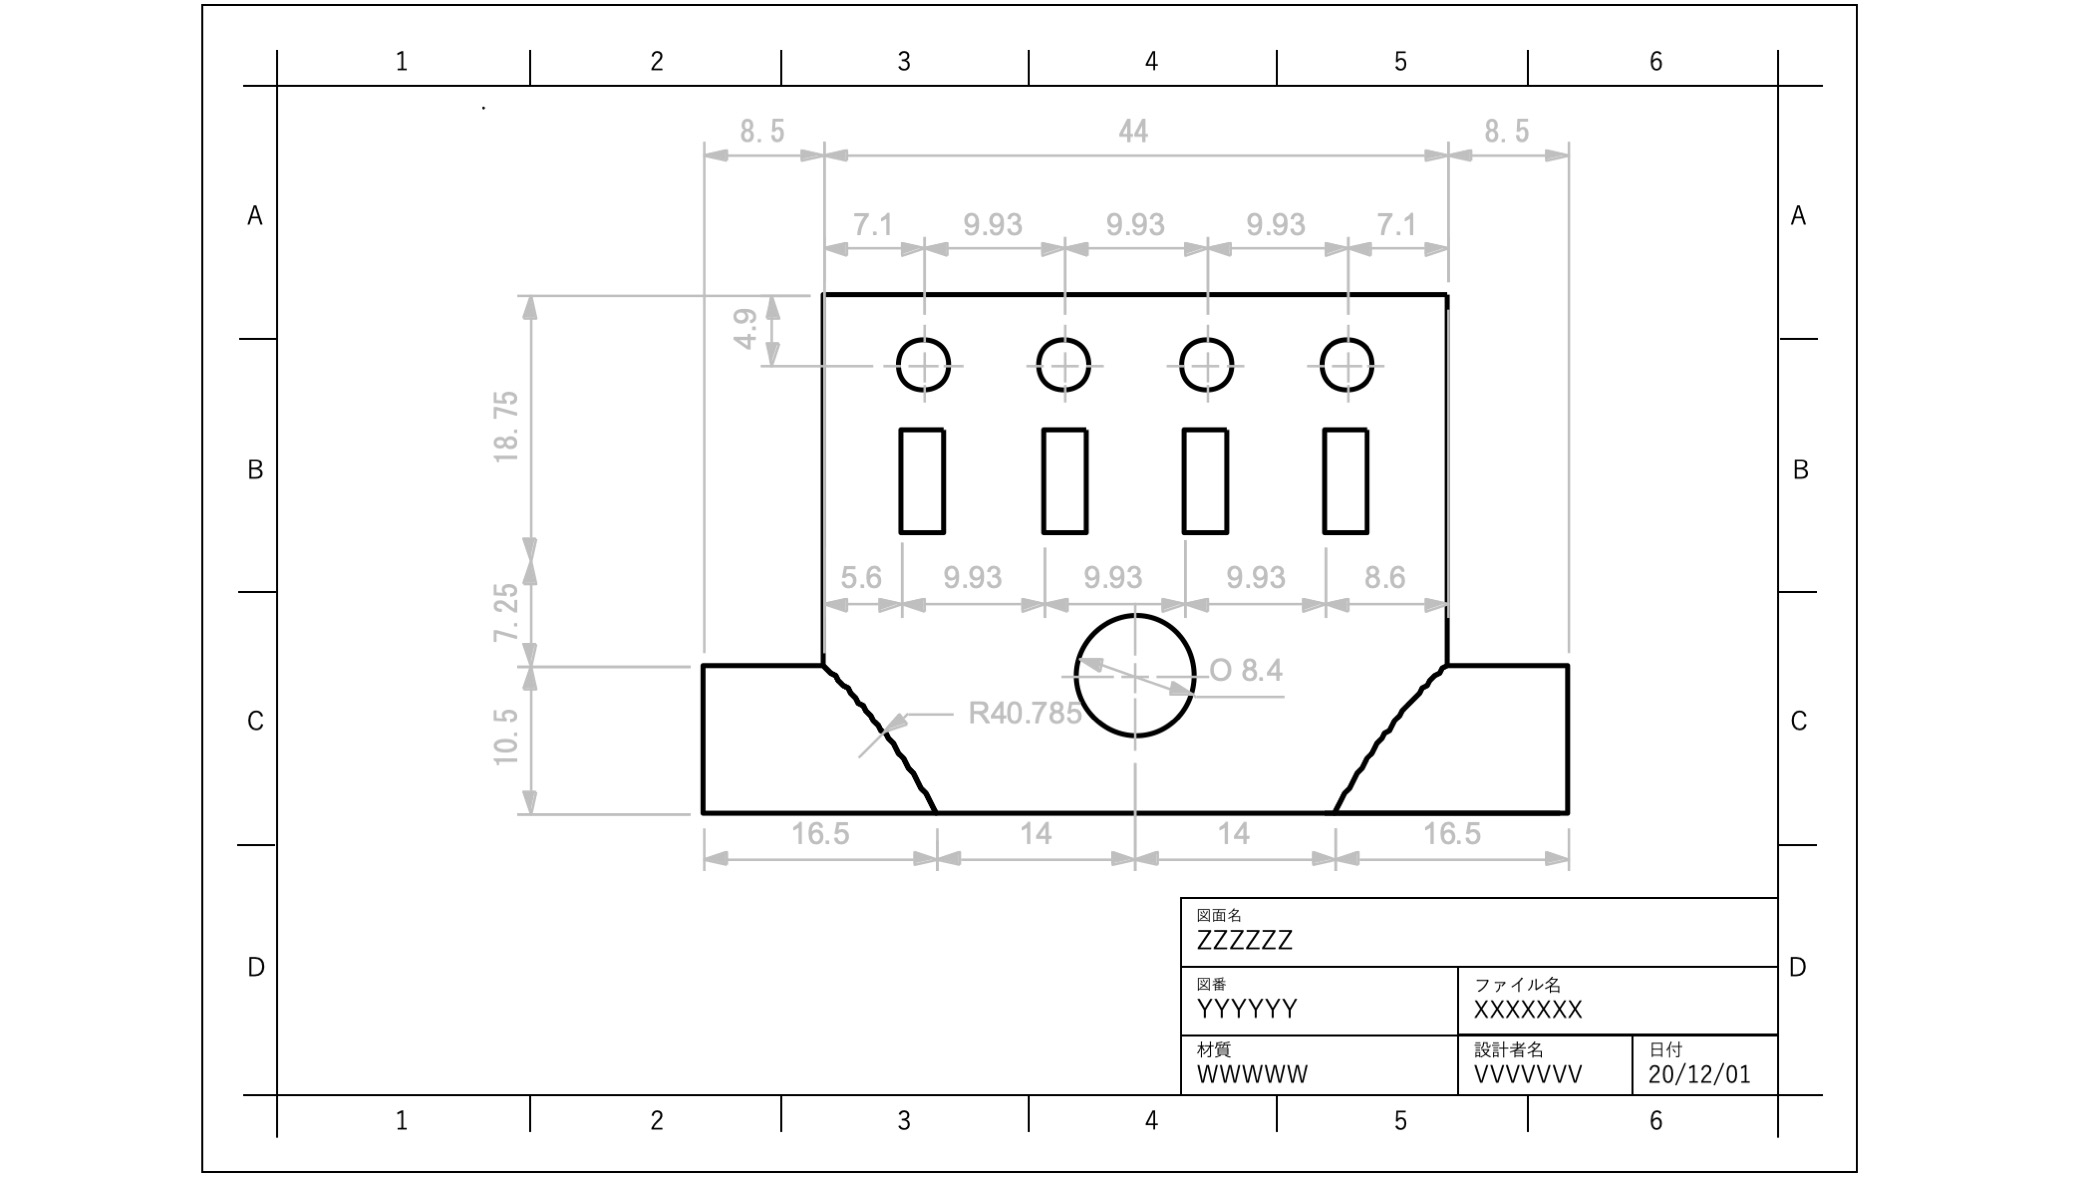circle: (1072, 603, 1199, 746), (893, 329, 953, 410), (1168, 326, 1237, 397), (1030, 329, 1095, 392), (1317, 337, 1382, 397)
rectangle: (884, 424, 961, 547), (1030, 415, 1100, 542), (1171, 424, 1237, 545), (1320, 412, 1377, 545)
